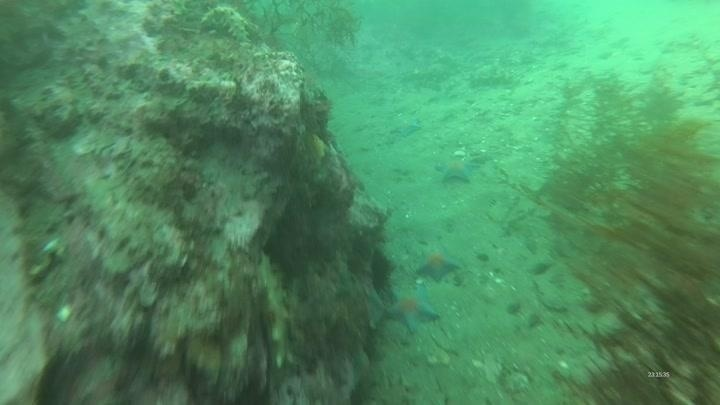echinus: (364, 247, 396, 295)
holothurian: (253, 248, 301, 376), (198, 2, 256, 46), (398, 61, 461, 89), (465, 64, 522, 92)
starfish: (383, 282, 441, 335), (345, 346, 382, 404), (413, 245, 462, 283), (433, 153, 482, 186), (362, 286, 390, 332), (387, 115, 424, 139)
